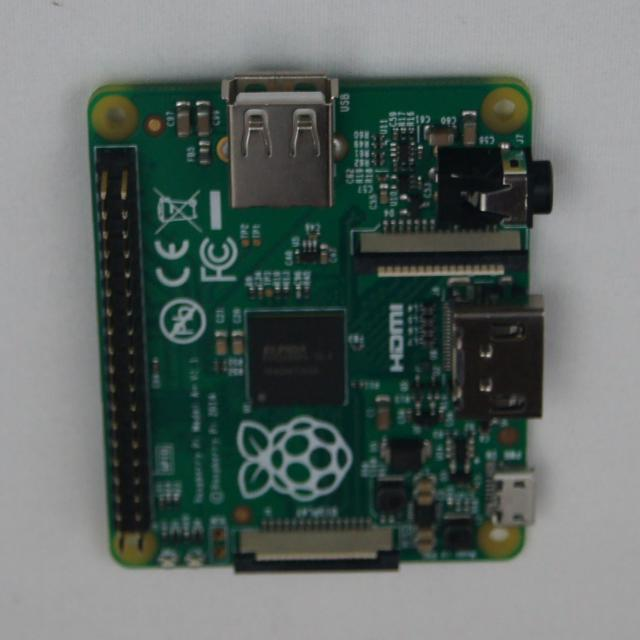Raspberry-Pi-1-A-: (88, 71, 554, 573)
